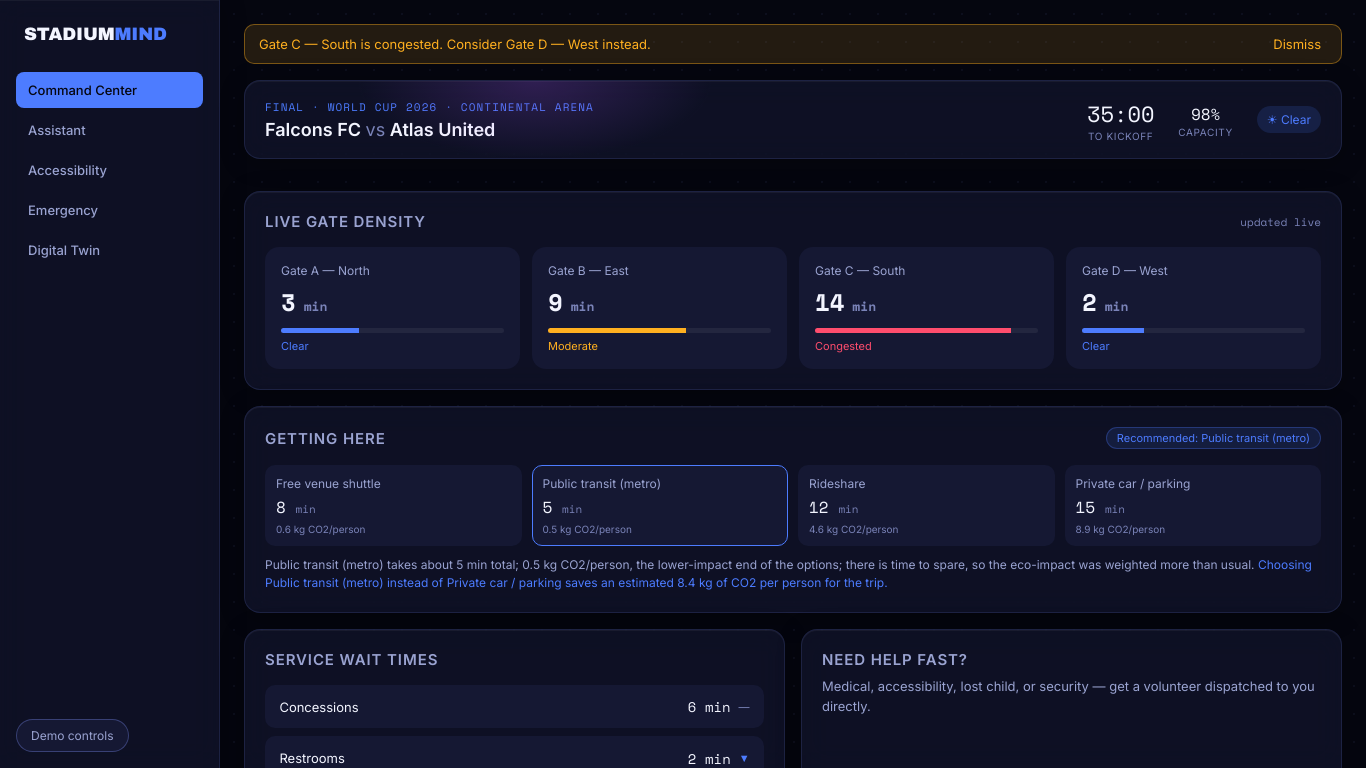
Scenario: App › navigates to the Assistant page and shows the chat
Click the link "Assistant". click: (57, 130)
box: x1=28 y1=122 x2=86 y2=138
(page scrolled)
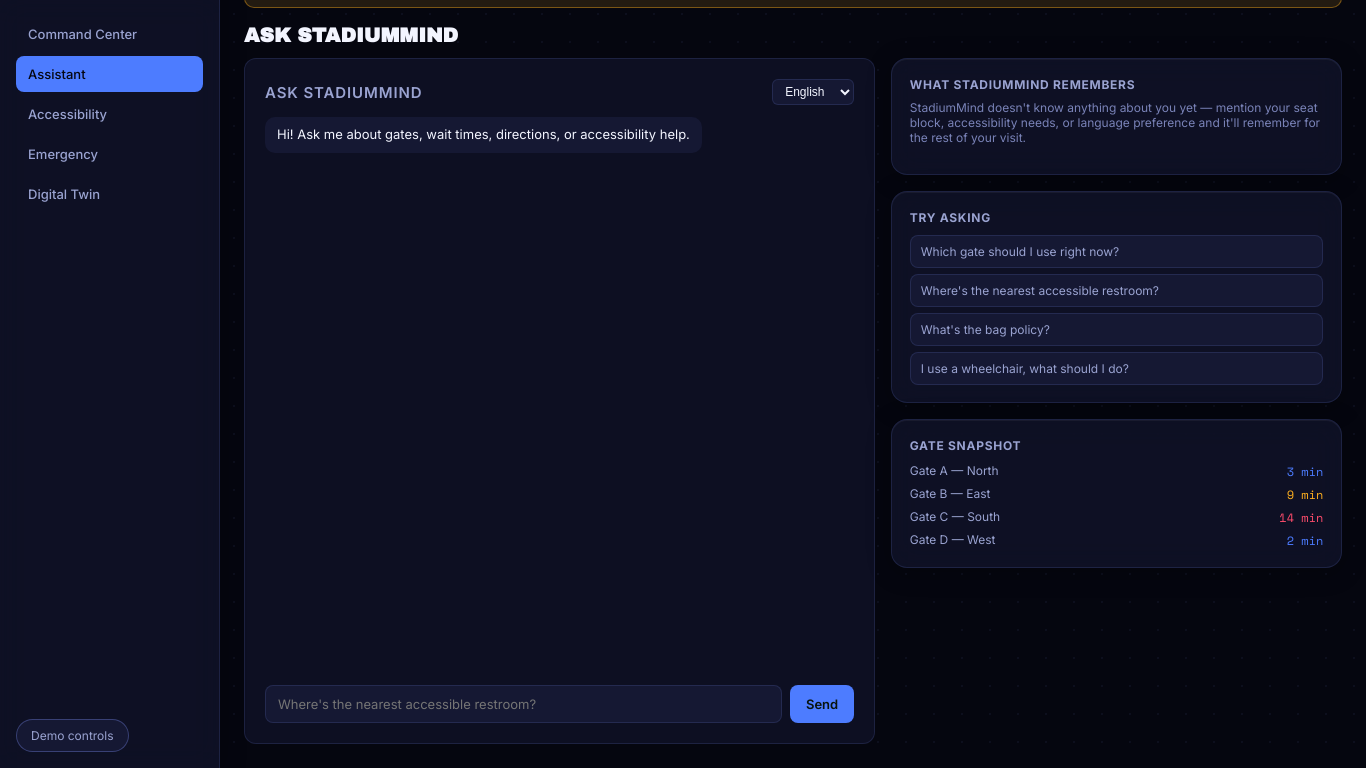
Expected: the heading "ASK STADIUMMIND" is shown, x1=244 y1=24 x2=458 y2=46
Expected: the field with placeholder "Where's the nearest accessible restroom?" is shown, x1=265 y1=685 x2=782 y2=723
